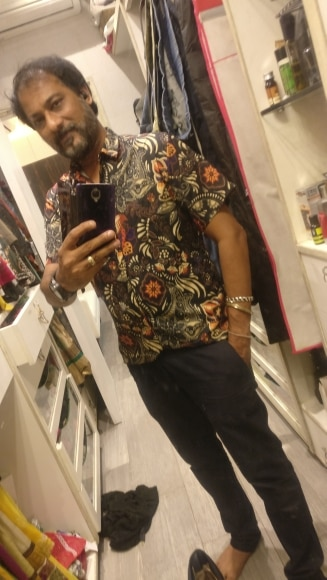shirts: (46, 147, 238, 358)
